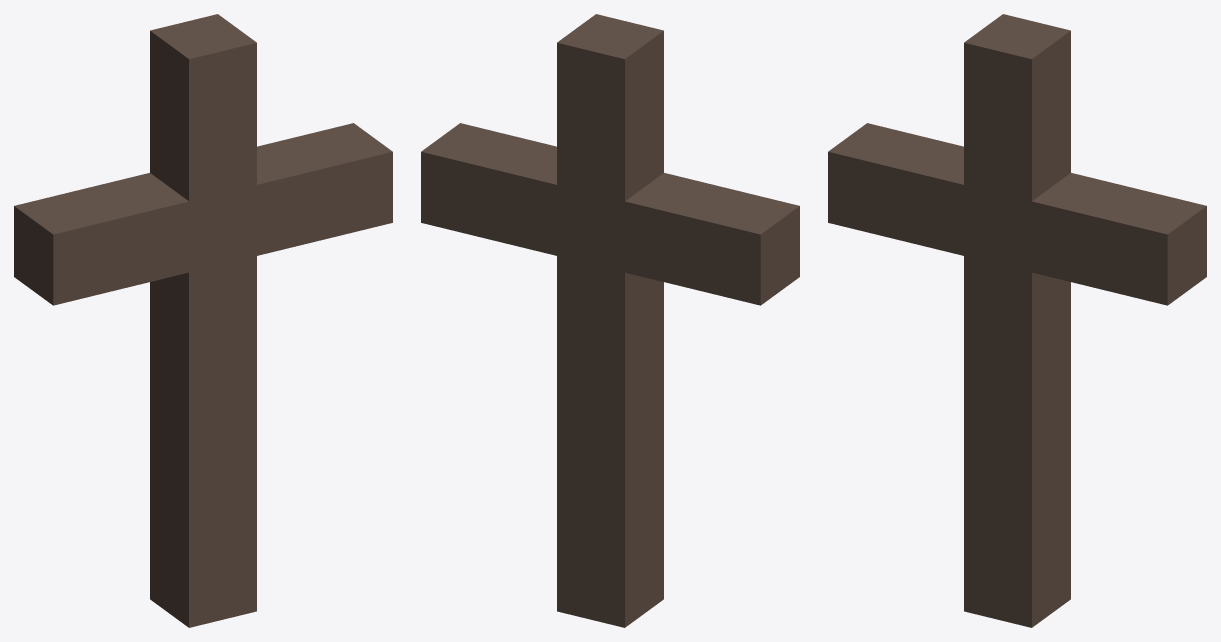
The model's file is cross.fbx.
3 views of the same model, side by side, from view 1: azimuth 30°, elevation 25°; view 2: azimuth 150°, elevation 25°; view 3: azimuth 330°, elevation 25° (orthographic).
Parts seen in each view (by area): view 1: cross_0; view 2: cross_0; view 3: cross_0.
Part boxes in pixels (x1,y1,x2,y2): cross_0: (14, 14, 392, 627); cross_0: (421, 14, 799, 627); cross_0: (828, 14, 1206, 627).
Bounding box in the file's own units: 500 × 100 × 800.
